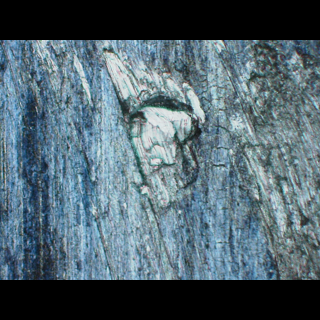d: (98, 43, 214, 219)
